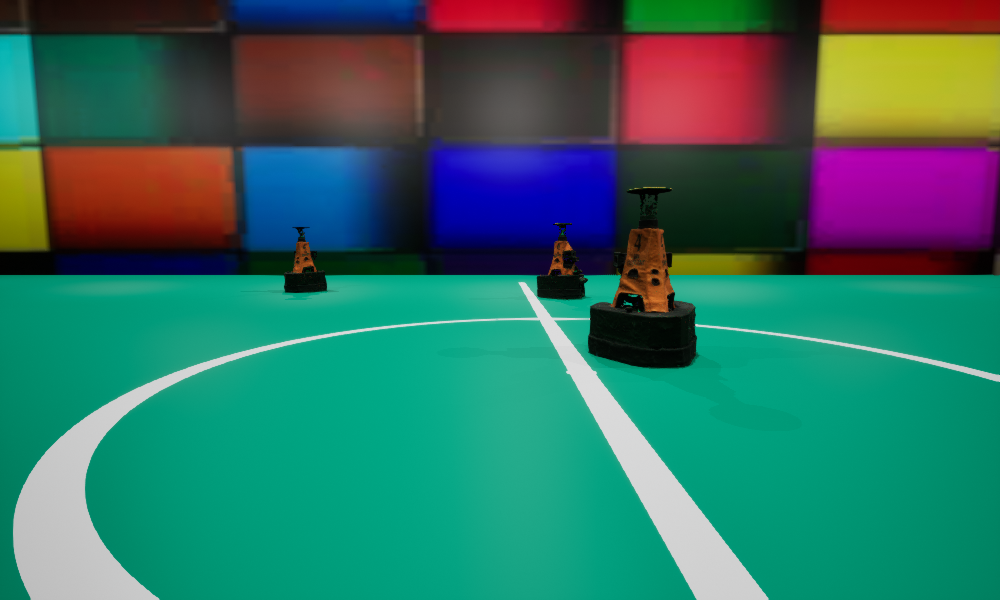0 orange robot TechUnited: (588, 187, 696, 367), (537, 223, 587, 299), (284, 227, 326, 292)
